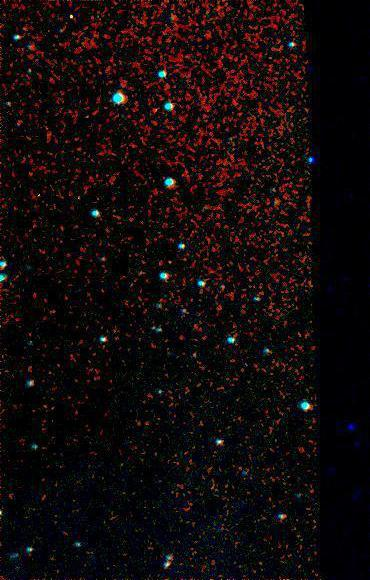star: (56, 2, 86, 32)
